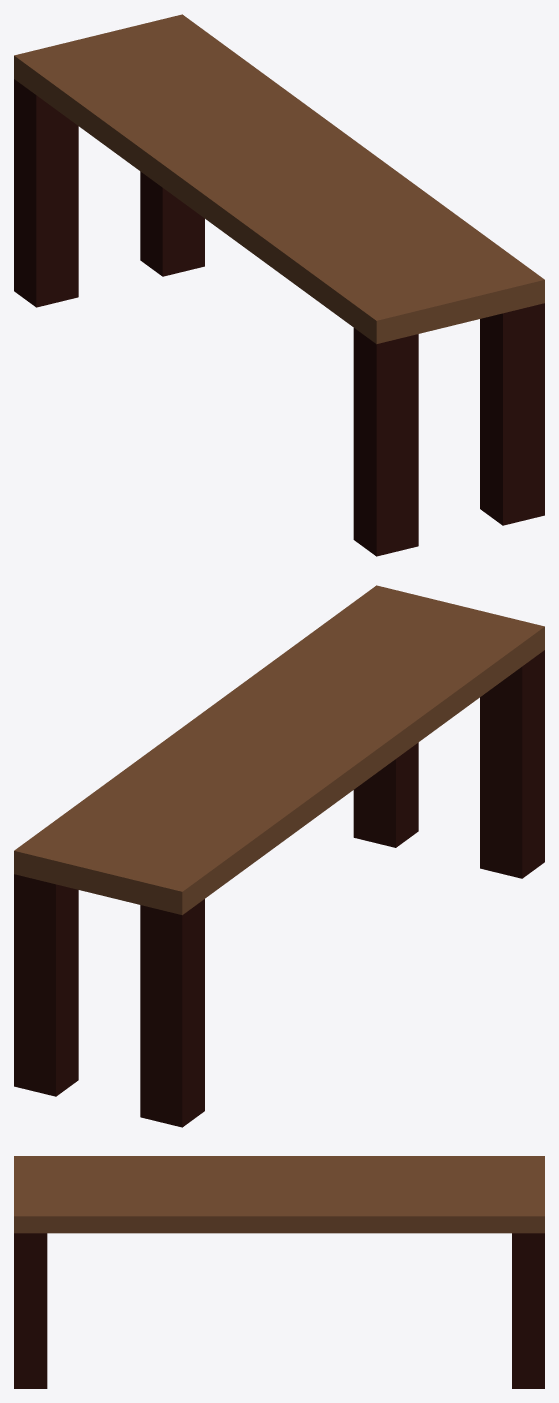
File: LongTable.fbx
3 views of the same model, one above another, from view 1: azimuth 30°, elevation 25°; view 2: azimuth 150°, elevation 25°; view 3: azimuth 270°, elevation 25° (orthographic). The views are drawn at different scales.
Visible parts, largest first — view 1: Cube.003; view 2: Cube.003; view 3: Cube.003.
Boxes of the visible parts, x1,y1,x2,y2 form: Cube.003: [14, 14, 544, 556]; Cube.003: [14, 585, 544, 1127]; Cube.003: [14, 1156, 544, 1388].
Bounding box in the file's own units: 140 × 188 × 523.
